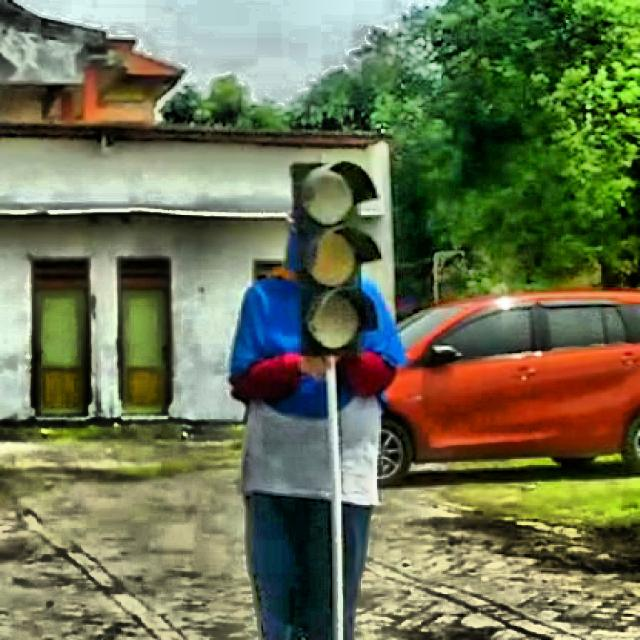yellow: (292, 162, 378, 354)
